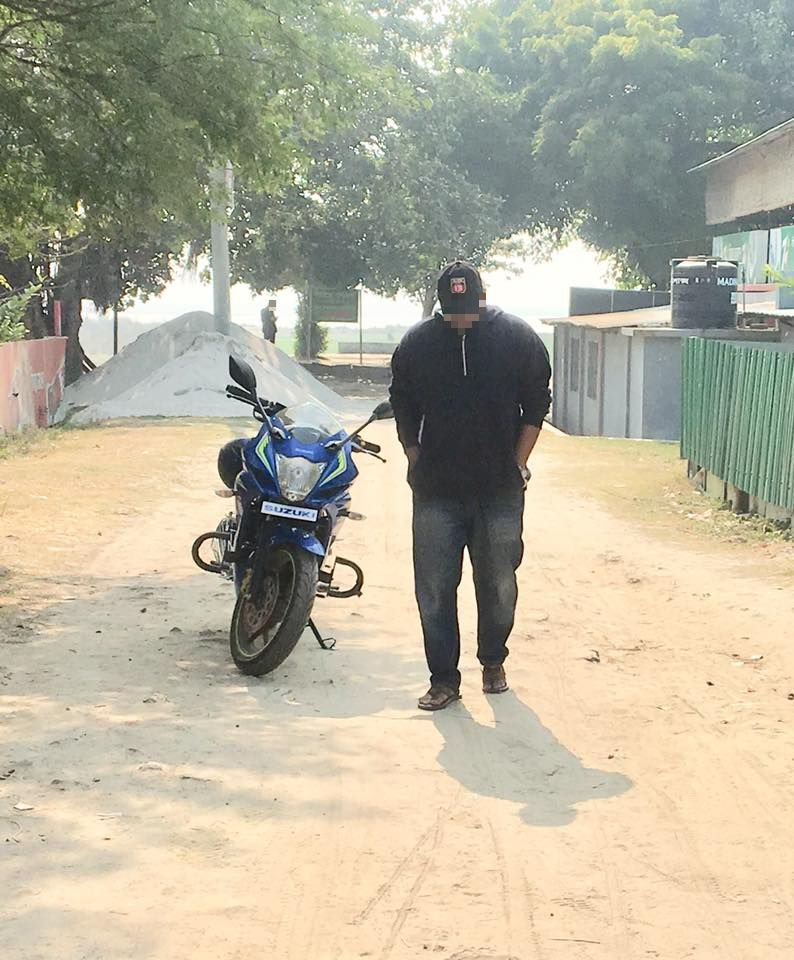bike: (191, 358, 397, 679)
